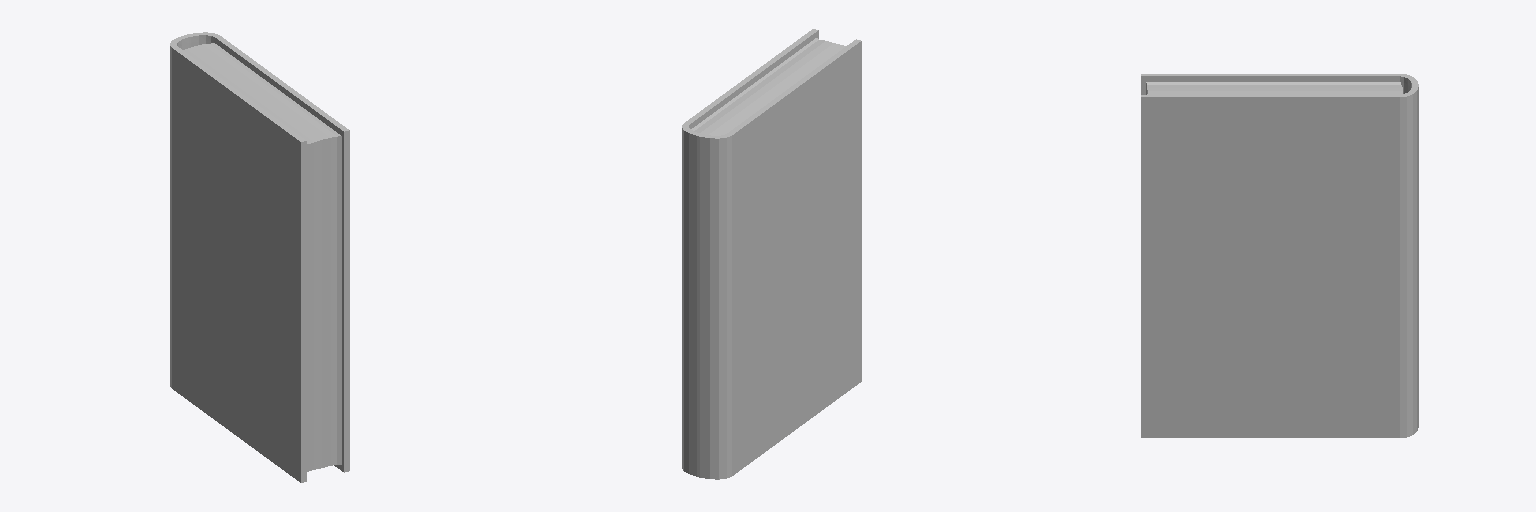
The model's file is SetA_Book_Style_02.obj.
3 views of the same model, side by side, from view 1: azimuth 30°, elevation 25°; view 2: azimuth 150°, elevation 25°; view 3: azimuth 270°, elevation 25° (orthographic).
Visible parts, largest first — view 1: SetA_Book_Style_02; view 2: SetA_Book_Style_02; view 3: SetA_Book_Style_02.
Boxes of the visible parts, <box> form: SetA_Book_Style_02: <box>170,32,349,482</box>; SetA_Book_Style_02: <box>682,29,861,479</box>; SetA_Book_Style_02: <box>1141,74,1418,437</box>.
Bounding box in the file's own units: 0.0277 × 0.1851 × 0.1366.